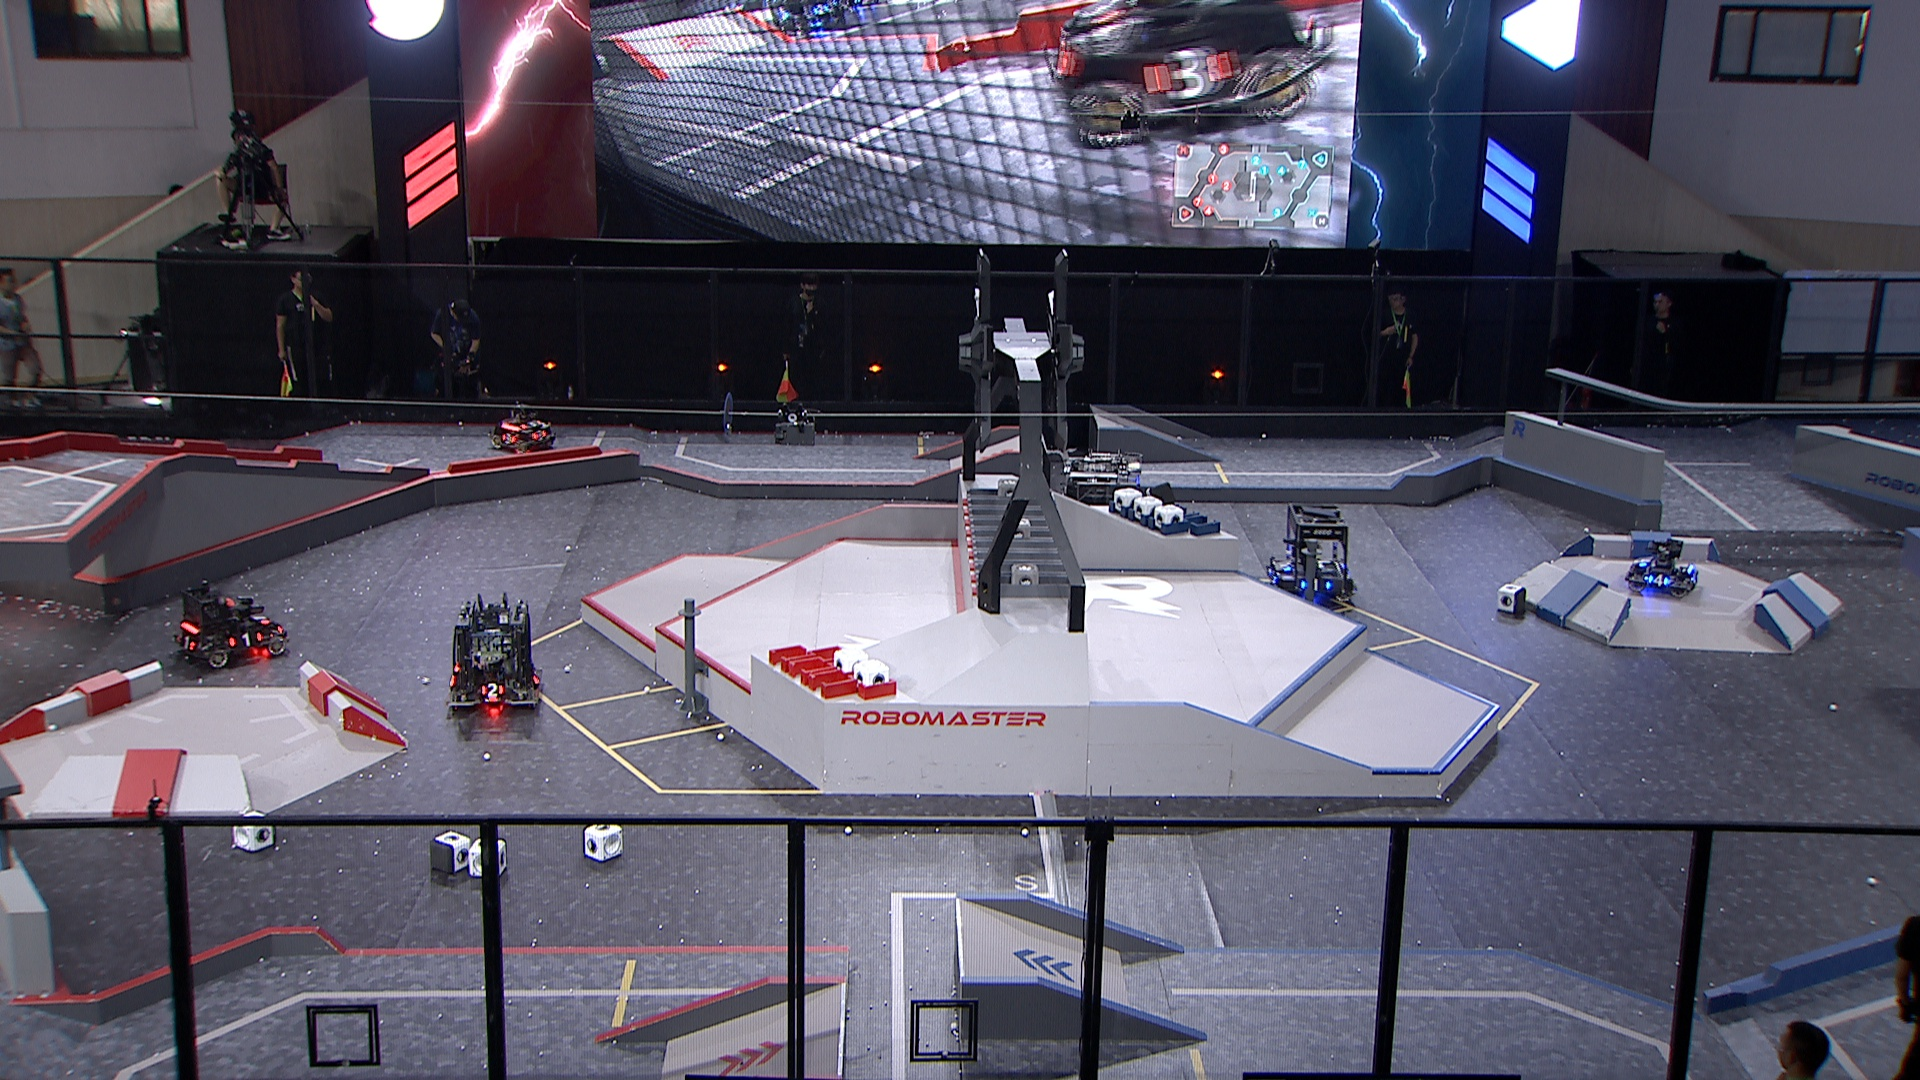armor: (228, 632, 261, 647), (1299, 579, 1333, 593), (480, 680, 502, 698), (177, 632, 193, 650), (1276, 556, 1291, 575), (1647, 575, 1667, 588), (1685, 571, 1702, 585), (500, 431, 518, 444), (531, 429, 549, 442), (520, 417, 541, 427), (252, 612, 269, 624)
car: (444, 589, 545, 717), (169, 578, 291, 670), (1265, 502, 1358, 608), (1050, 447, 1153, 533), (1625, 533, 1702, 603), (487, 401, 560, 456)
